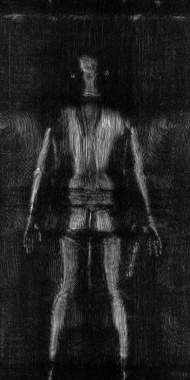gun: (123, 240, 142, 278)
